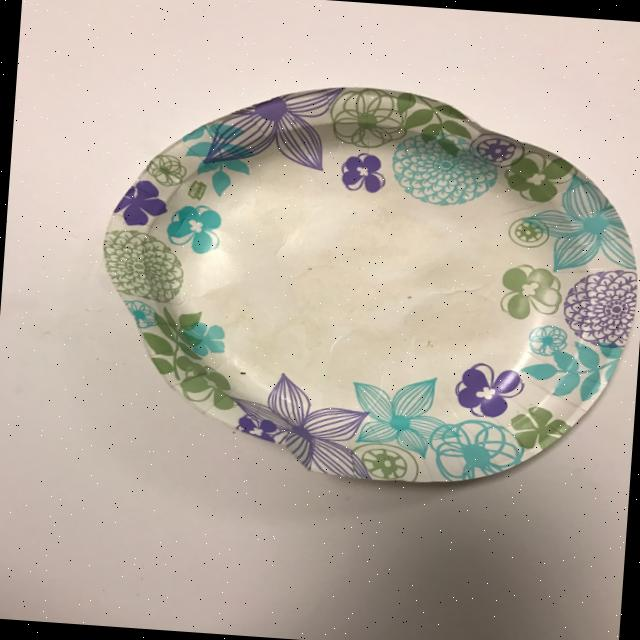paper: (86, 68, 640, 498)
